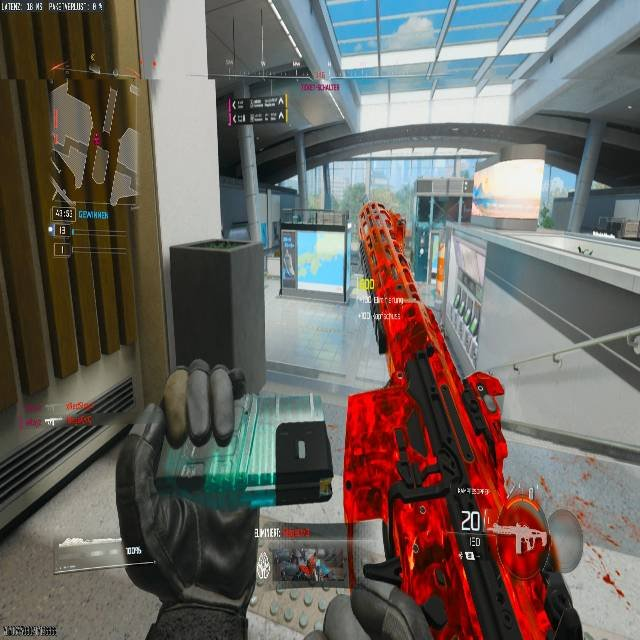head: (493, 498, 550, 573)
